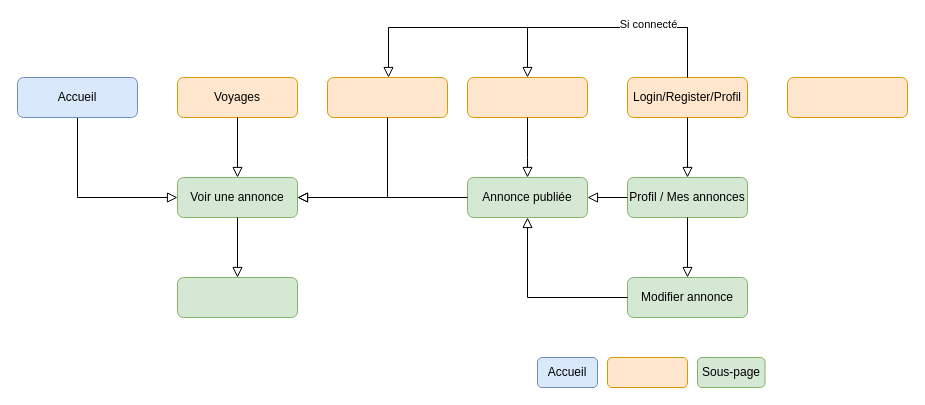
This 925x405 diagram has some shape labels left out. The shapes that lost their labels are listed below. From the top down, each one's centre as x and y in pixels, then its label:
At pixel 387 97: "Mes voyages".
At pixel 527 97: "Créer une annonce".
At pixel 847 97: "Contact".
At pixel 237 297: "Inscription envoyé".
At pixel 647 372: "Page principales".
